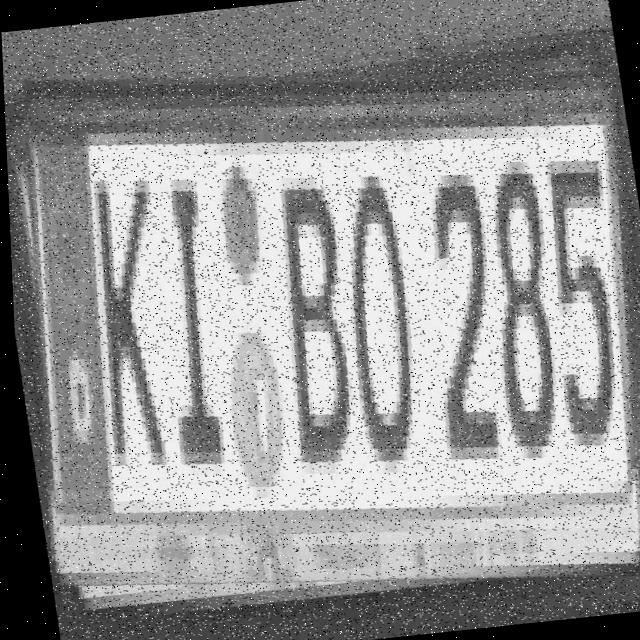LicensePlate: (1, 32, 640, 625)
